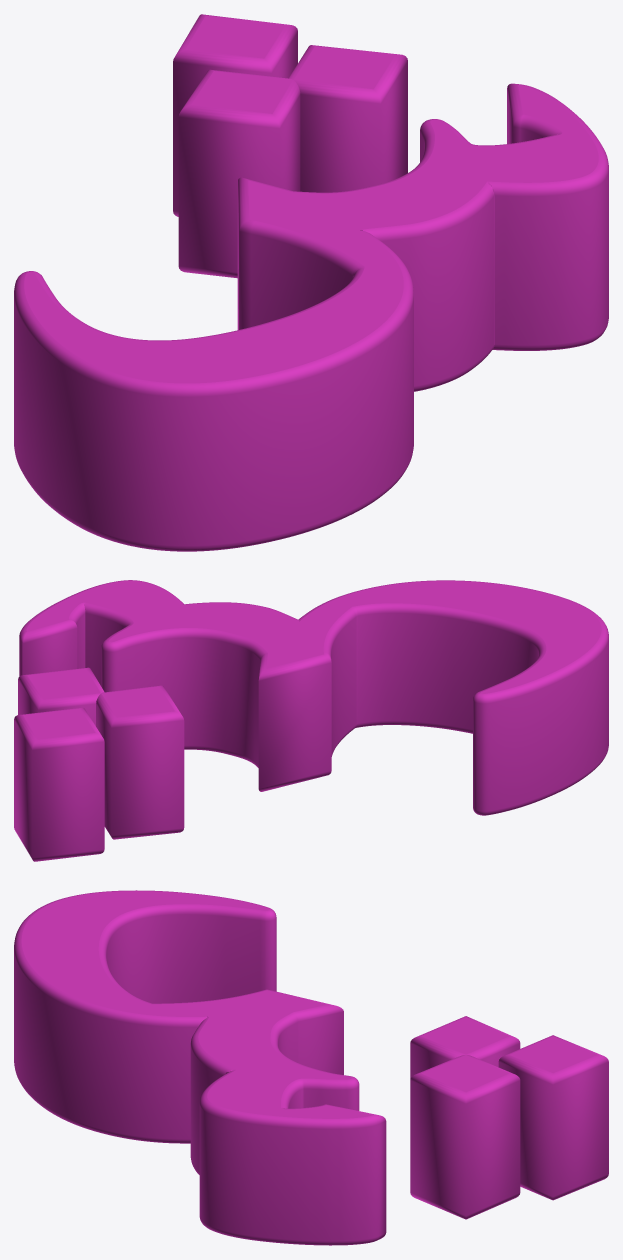
Rendered from 13 sya.fbx.
3 views of the same model, one above another, from view 1: azimuth 30°, elevation 25°; view 2: azimuth 150°, elevation 25°; view 3: azimuth 270°, elevation 25° (orthographic). The views are drawn at different scales.
Parts seen in each view (by area): view 1: Text.019; view 2: Text.019; view 3: Text.019.
Part boxes in pixels (<box>): Text.019: <box>14,14,608,551</box>; Text.019: <box>14,580,608,861</box>; Text.019: <box>14,890,608,1245</box>.
Bounding box in the file's own units: 71.83 × 18 × 77.09.
